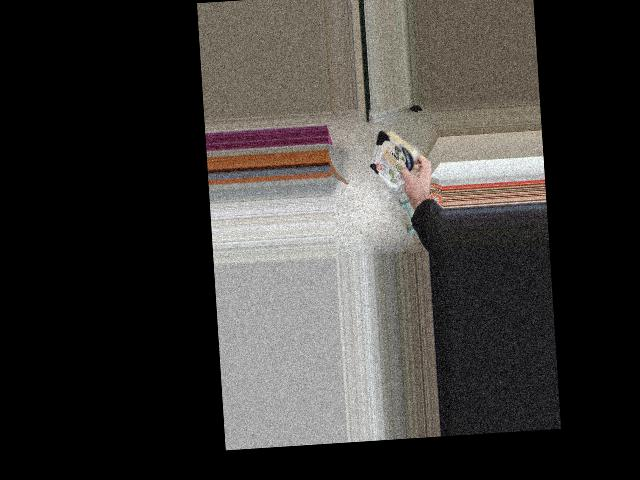cheese: (360, 127, 437, 186)
